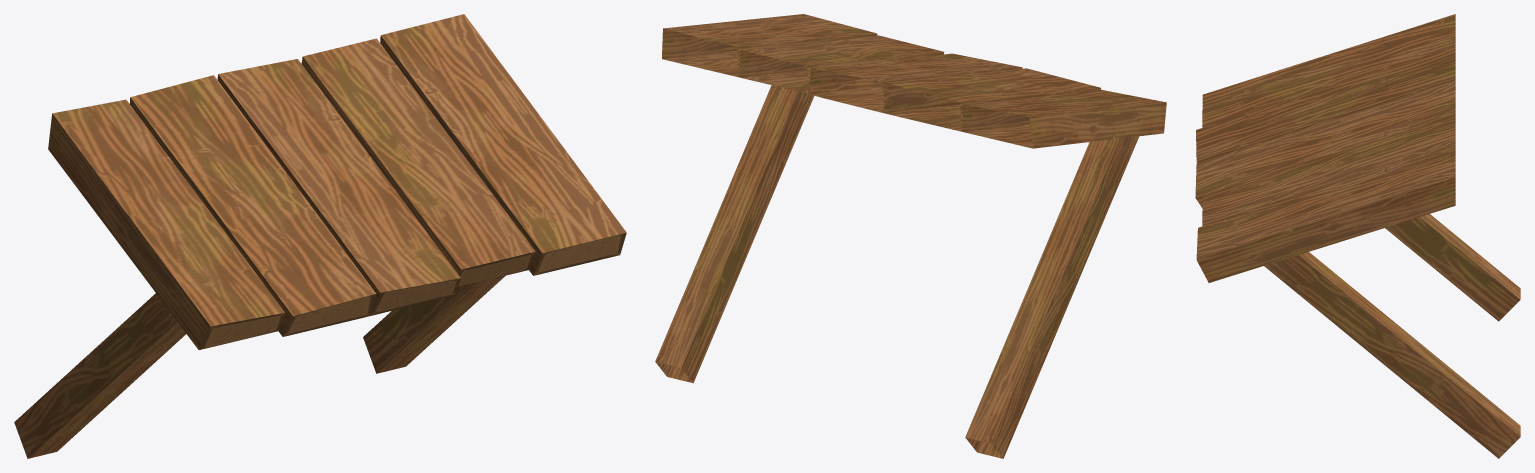
File: Window_Roof_Wide.glb
The picture shows the model from 3 angles, left to right: view 1: azimuth 30°, elevation 25°; view 2: azimuth 150°, elevation 25°; view 3: azimuth 270°, elevation 25°; orthographic projection. The views are drawn at different scales.
Parts seen in each view (by area): view 1: Window_Roof_Wide; view 2: Window_Roof_Wide; view 3: Window_Roof_Wide.
Boxes of the visible parts, box(x1,y1,x2,y2) form: Window_Roof_Wide: box(14, 14, 626, 458); Window_Roof_Wide: box(655, 14, 1166, 458); Window_Roof_Wide: box(1195, 14, 1520, 458).
Bounding box in the file's own units: 1.42 × 1.18 × 1.18.
1 material, 1 textured.
